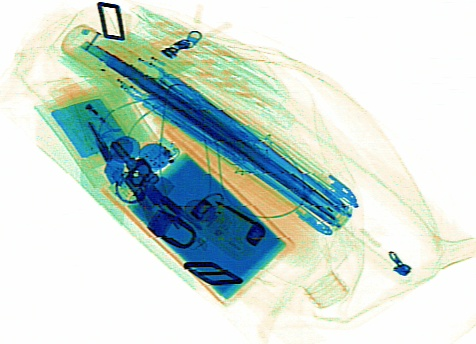lighter: (47, 75, 130, 157)
